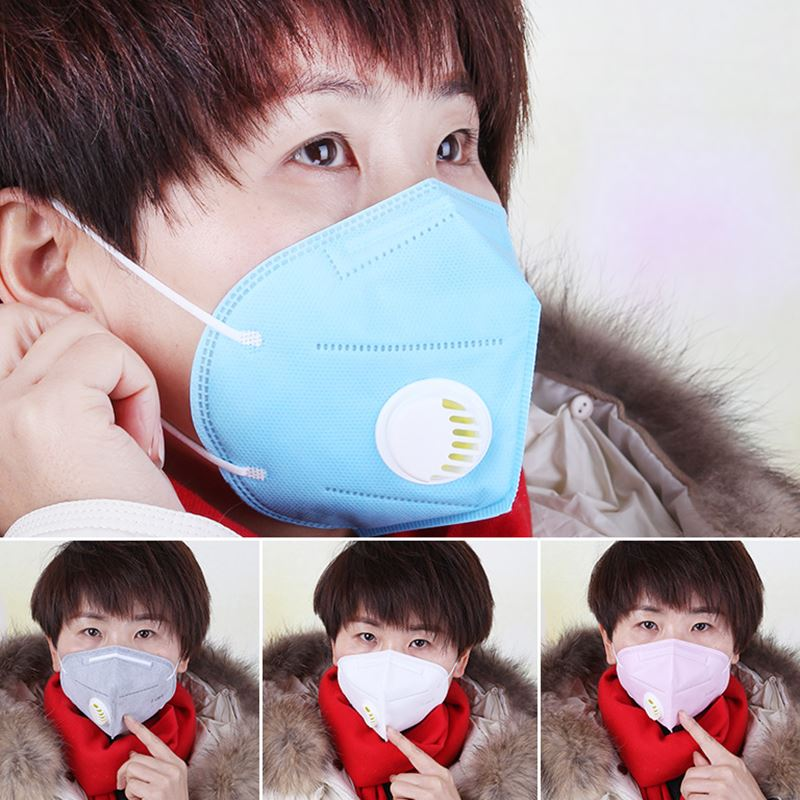face_mask: (169, 62, 541, 535), (616, 587, 730, 732), (61, 601, 178, 739), (337, 613, 449, 741)
